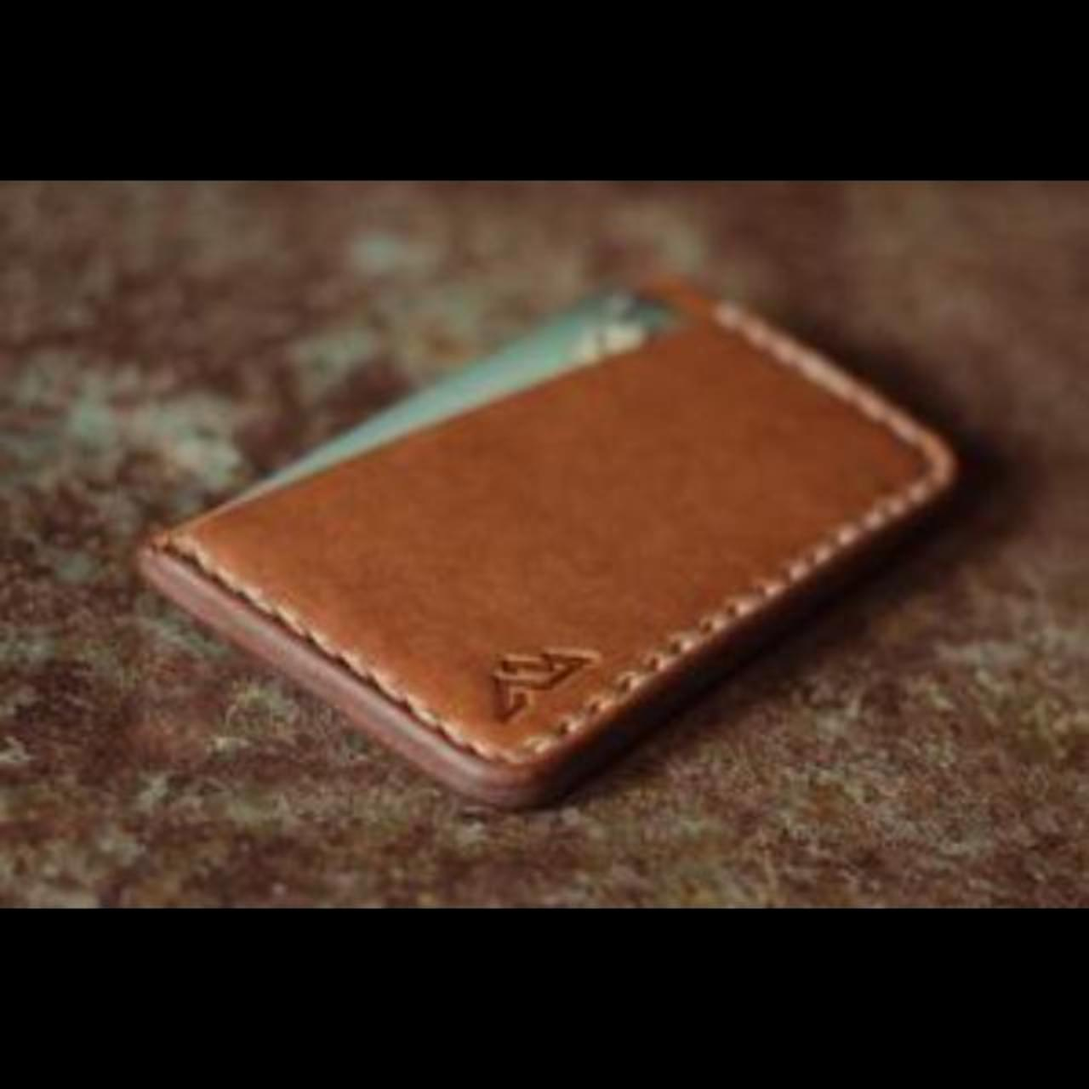wallet: (117, 231, 1019, 828)
